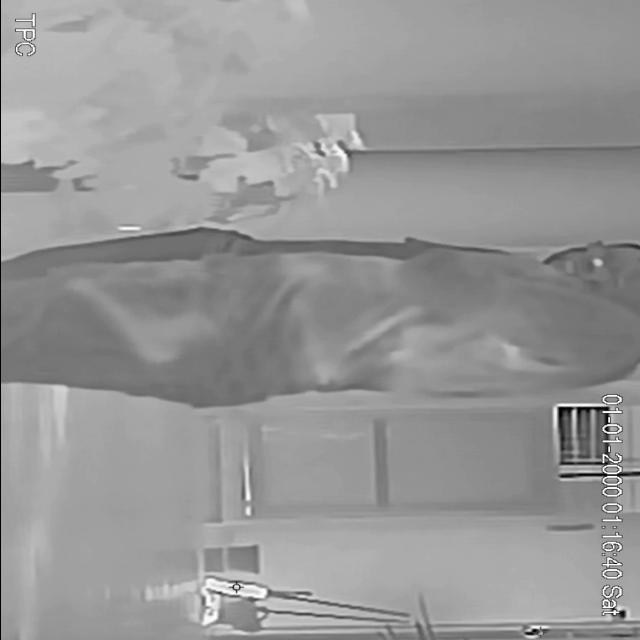Weapon: (38, 260, 228, 386)
